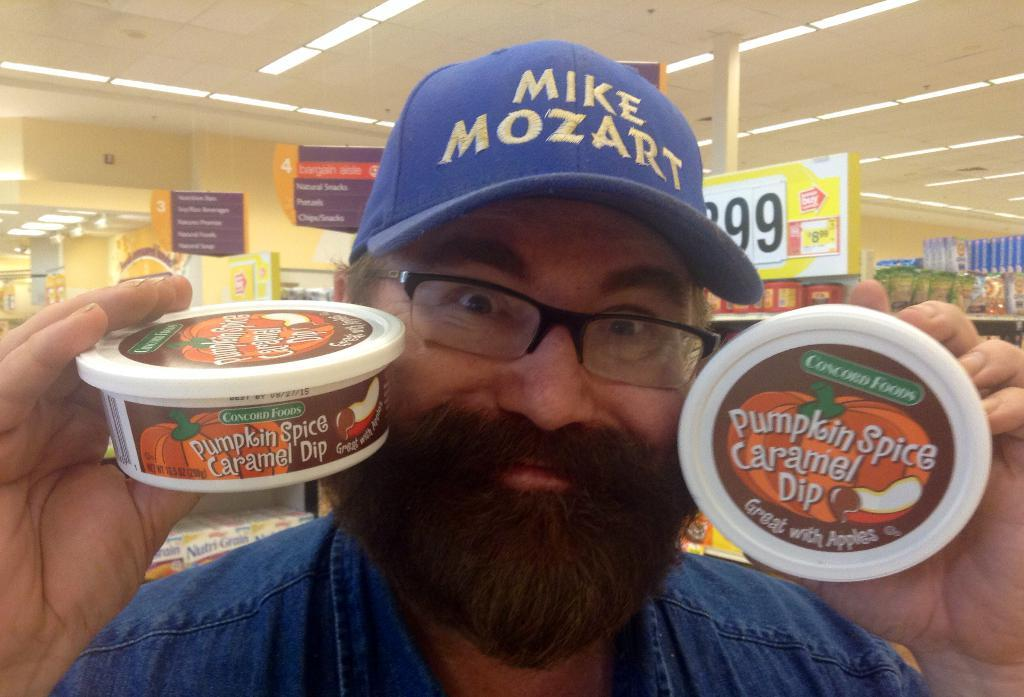Hat: (348, 35, 762, 303)
